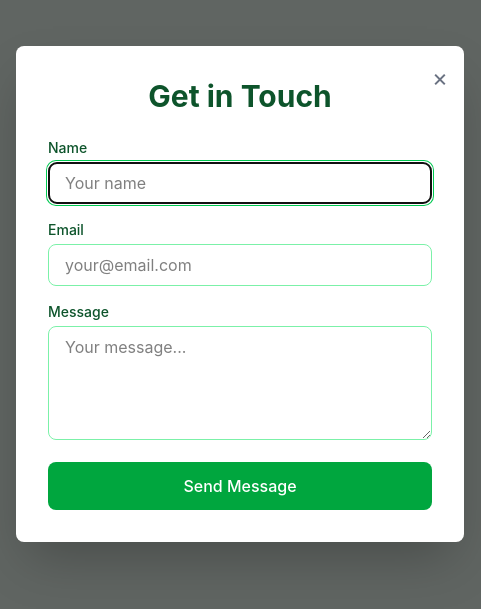
ContactModal › shows validation error and does not call fetch when name is too short
Type "A" into the field labelled "Name".
click(240, 183); type("A")  # box [48,162,432,204]
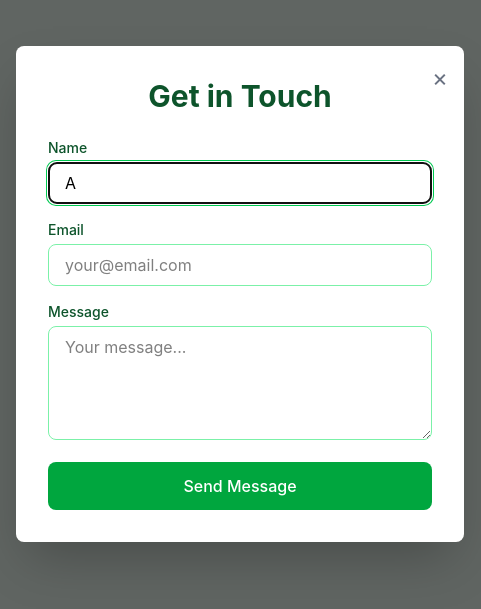
Type "not-an-email" into the field labelled "Email".
click(240, 265); type("not-an-email")  # box [48,244,432,286]
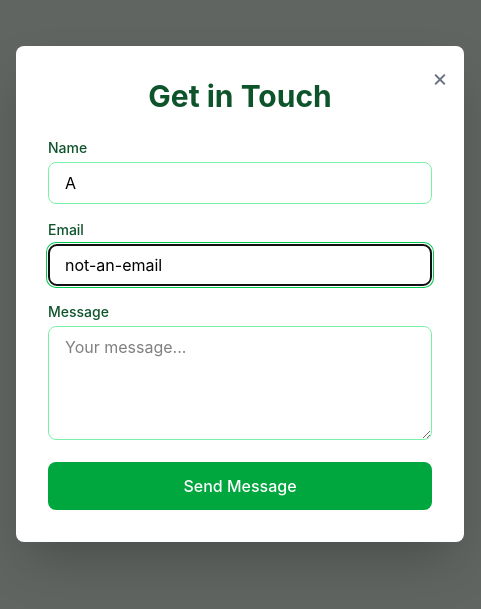
Type "short" into the text box labelled "Message".
click(240, 383); type("short")  # box [48,326,432,440]
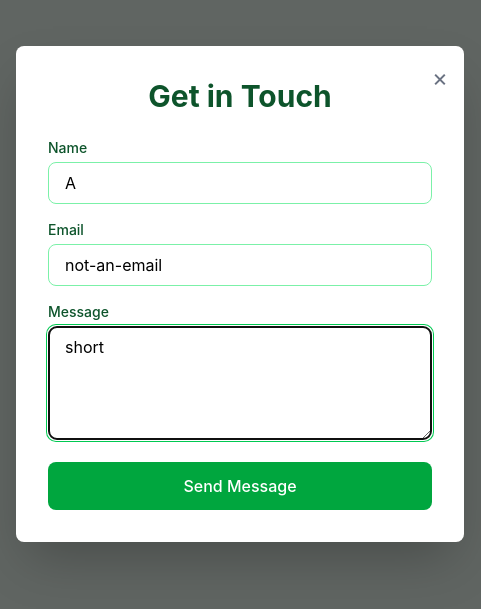
Click the button "Send Message".
click(240, 486)  # box [48,462,432,510]
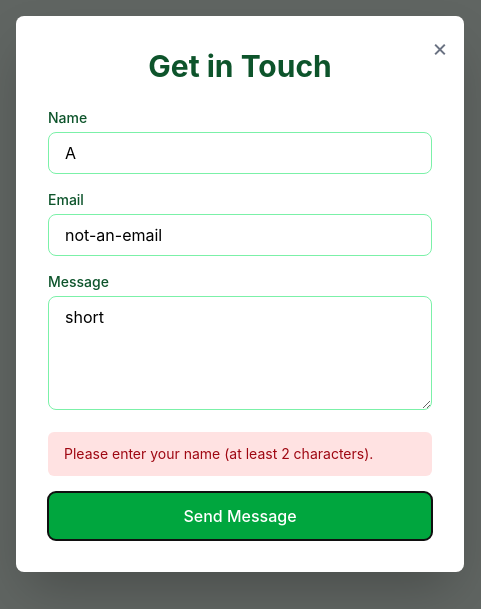
Now the text "Please enter your name (at least 2 characters)." is shown, box [48,432,432,476]
